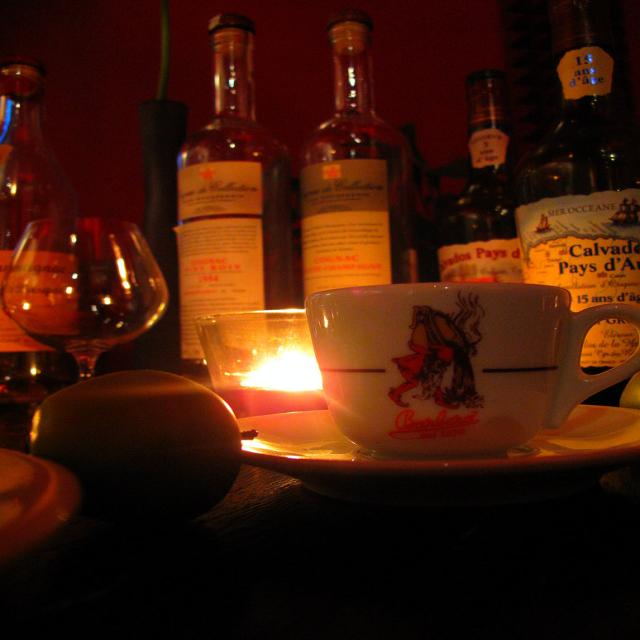Bottle: (526, 0, 640, 378), (172, 7, 277, 401), (294, 0, 395, 367), (444, 37, 535, 357), (0, 21, 68, 256)
Cup: (303, 264, 626, 474), (0, 200, 154, 406)
